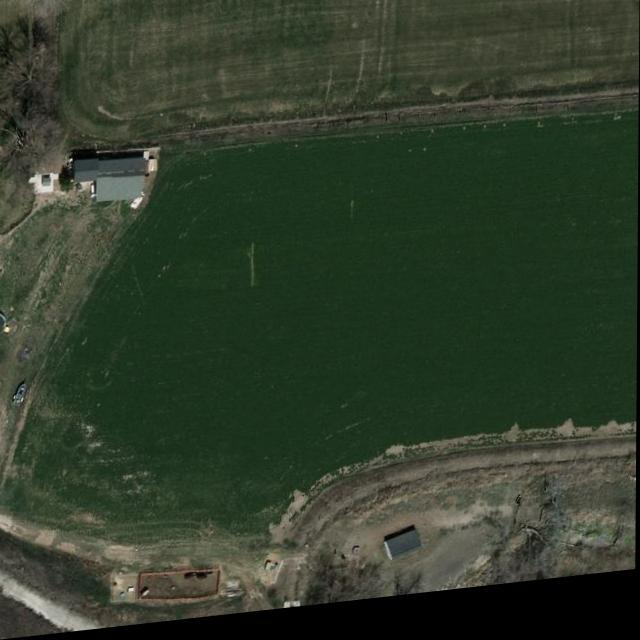vehicle: (127, 193, 150, 214)
